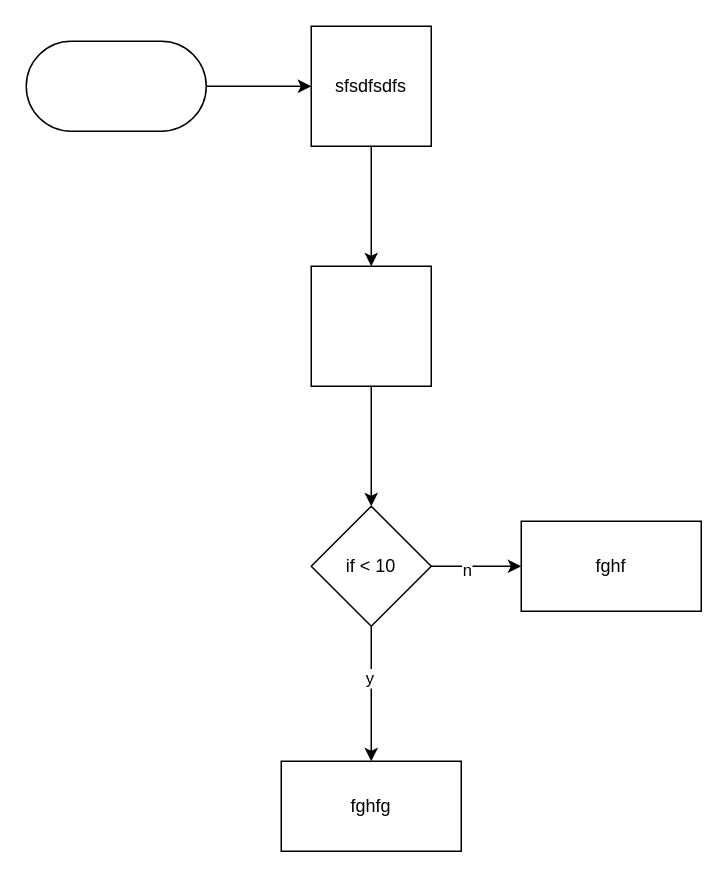
The diagram is 728 pixels wide and 878 high, and some of its shapes have lost their labels. The centre of each missing label's shape, as x and y in pixels:
sdfsd: (x=370, y=325)
start: (x=115, y=85)
